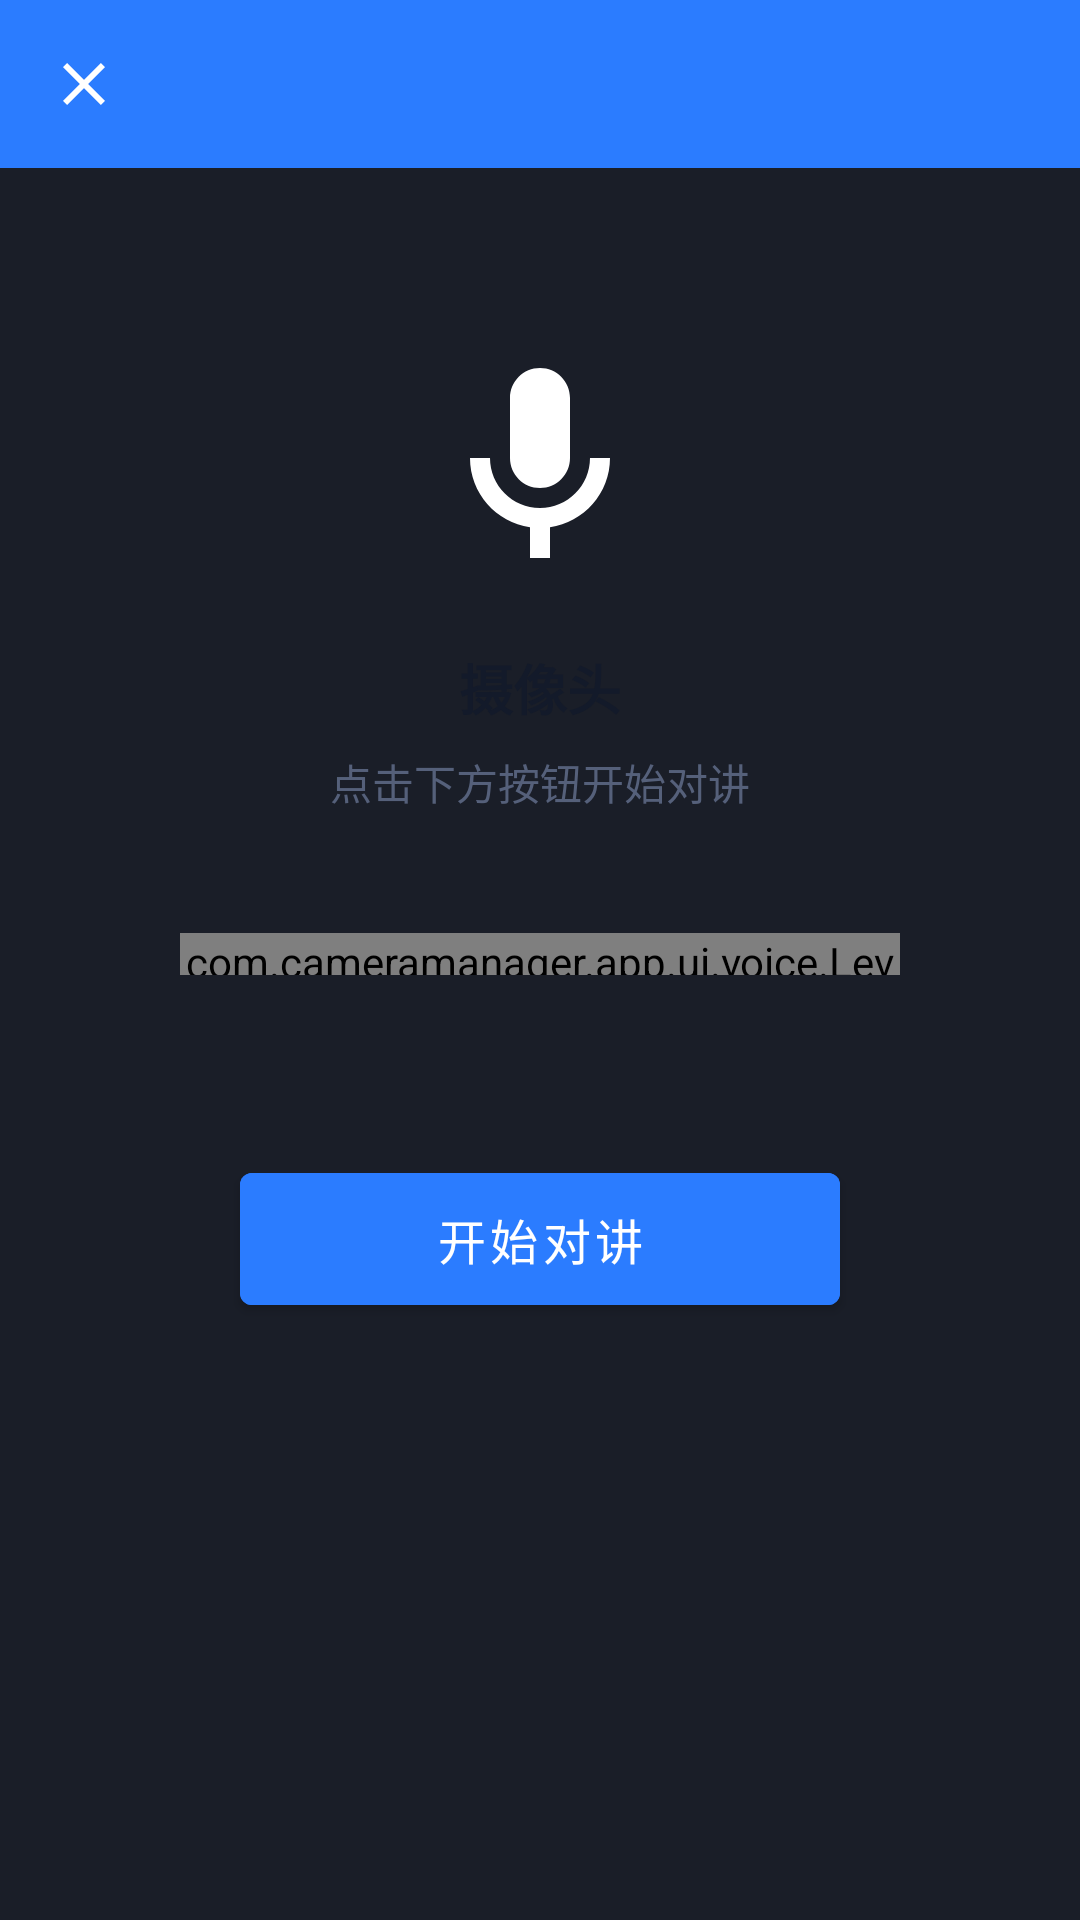

Icon bounding boxes for this 1080*1920 phone screenshot, format (x1, y1, x2, y2):
mic: (470, 368, 610, 558)
